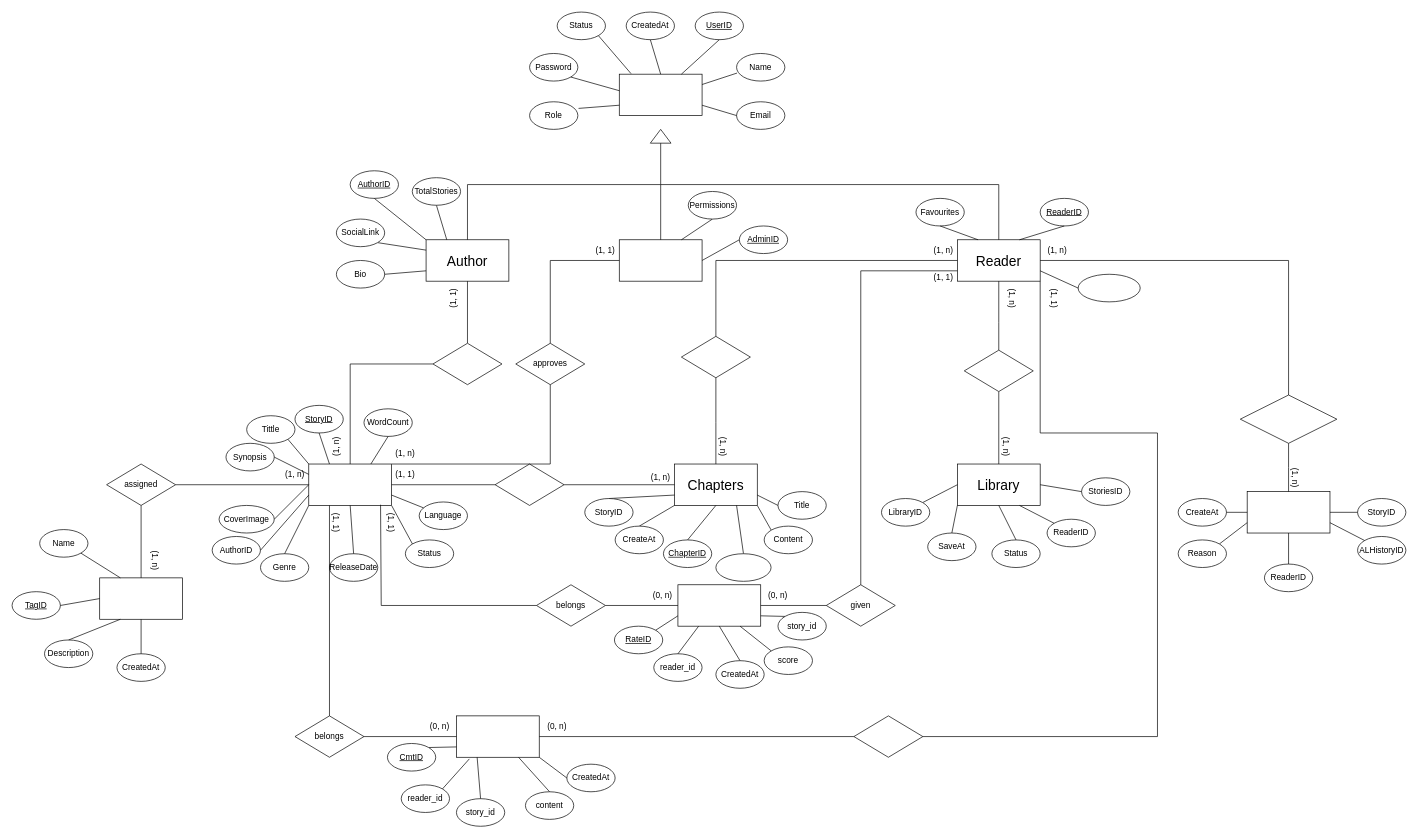
Image size: 1418x838. Some labels were removed from this diagram. Here are the shapes that lost their labels. From the top down, the centre of each, then its label:
pixel 660 94: User
pixel 660 260: Admin
pixel 1108 288: ReadingHistory
pixel 467 364: writes
pixel 715 357: reads
pixel 998 370: save_to
pixel 1288 418: receives_ recommendation
pixel 350 484: Stories
pixel 529 484: constains
pixel 1288 512: AI_History
pixel 743 567: OrderNumber
pixel 141 598: Tag
pixel 719 605: Rating
pixel 497 736: Comment
pixel 888 736: written
